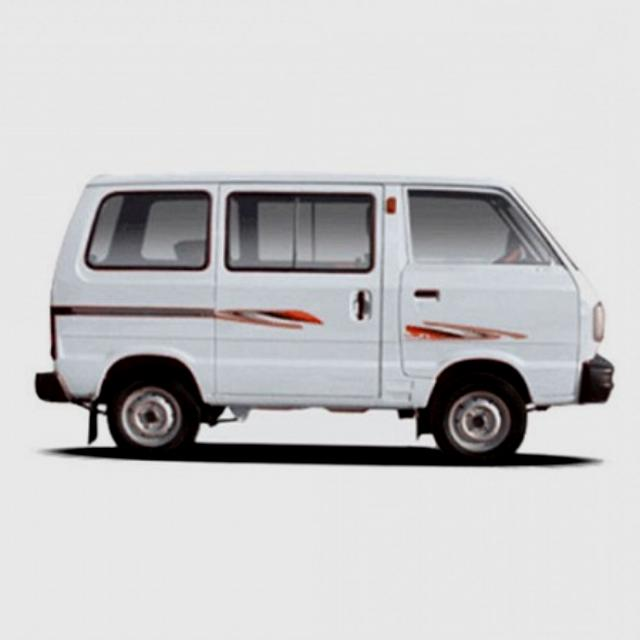ambulance: (44, 139, 629, 448), (201, 410, 414, 442)
